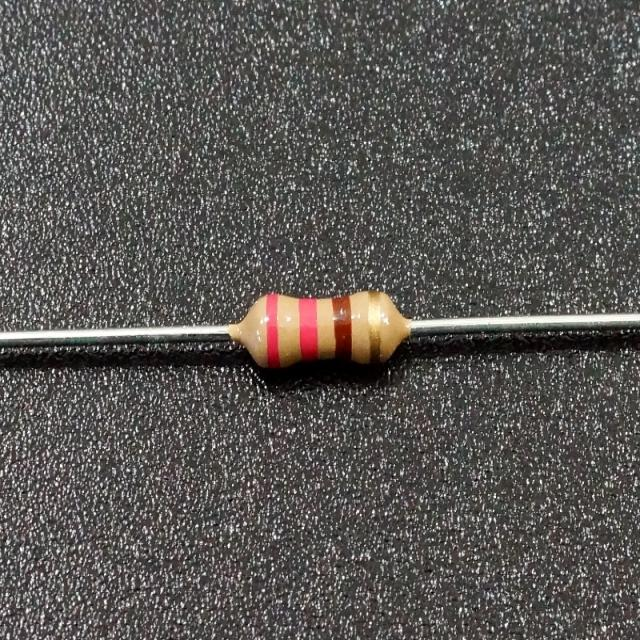Resistor: (230, 291, 409, 367)
brown: (332, 295, 352, 362)
gold: (369, 288, 380, 369)
red: (298, 292, 321, 365), (268, 293, 281, 374)
